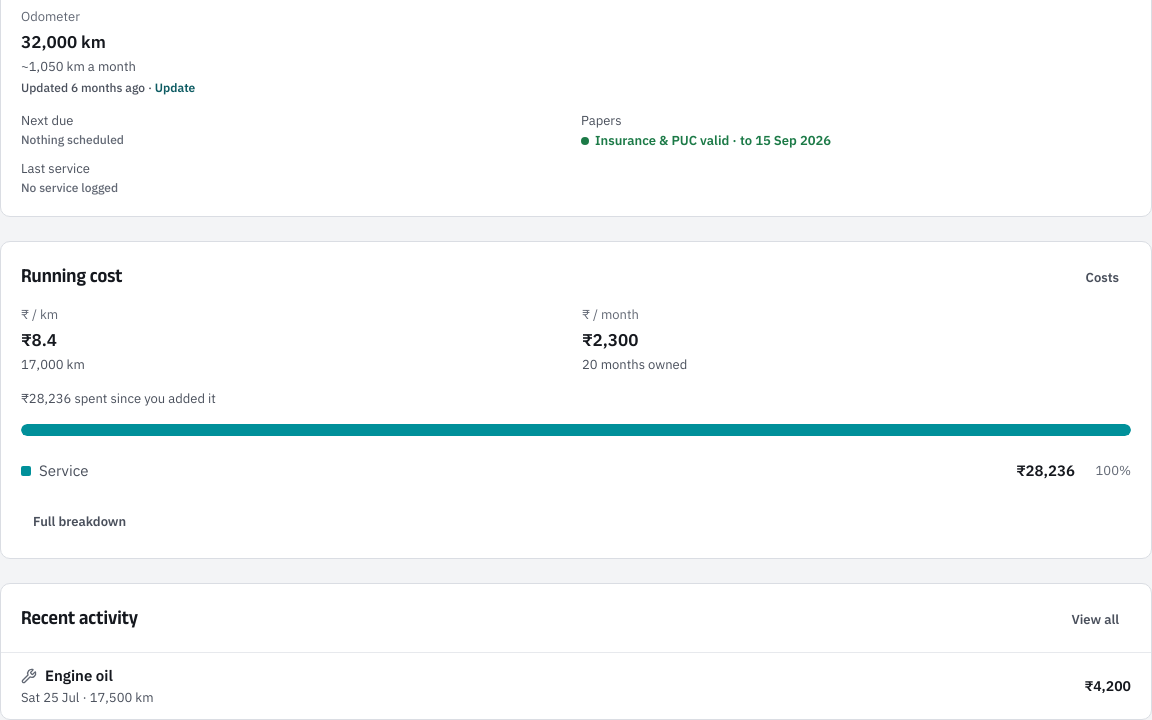
Test case: VehicleOverview › puts ₹/km and ₹/month first, with the full breakdown on demand
This screenshot has width=1152, height=720.
(page scrolled)
Expected: the element with test id "running-cost" shows "₹ / km", [21,306,58,323]
Expected: the element with test id "running-cost" shows "spent since you added it", [71,390,216,407]
Step 1. Click the button "Full breakdown" → point(80, 522), box [21,506,138,538]
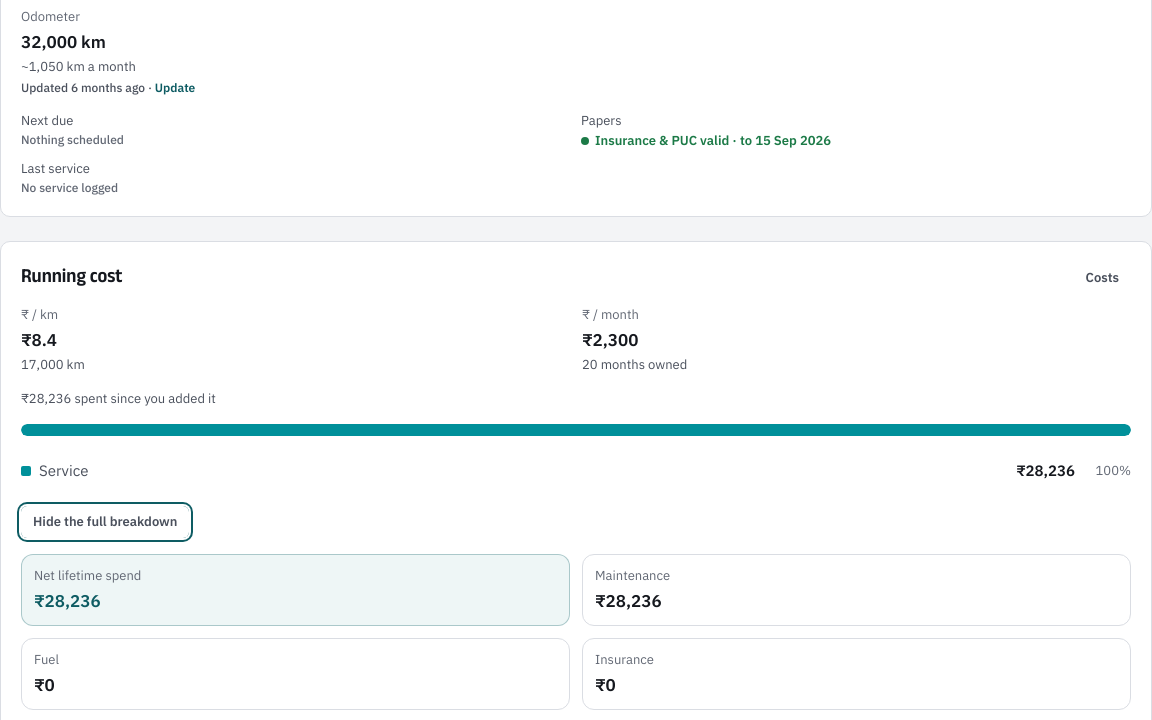
Now the text "Maintenance" is shown, box [595,567,670,584]
